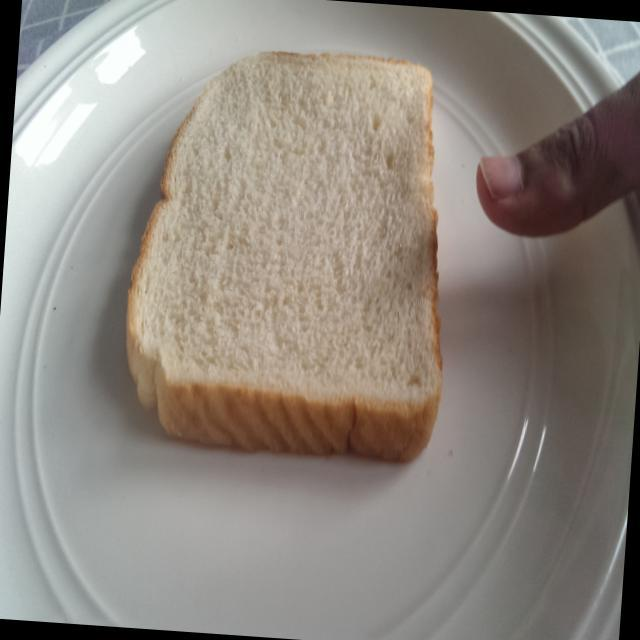Bread: (104, 22, 466, 480)
Finger: (464, 88, 596, 250)
